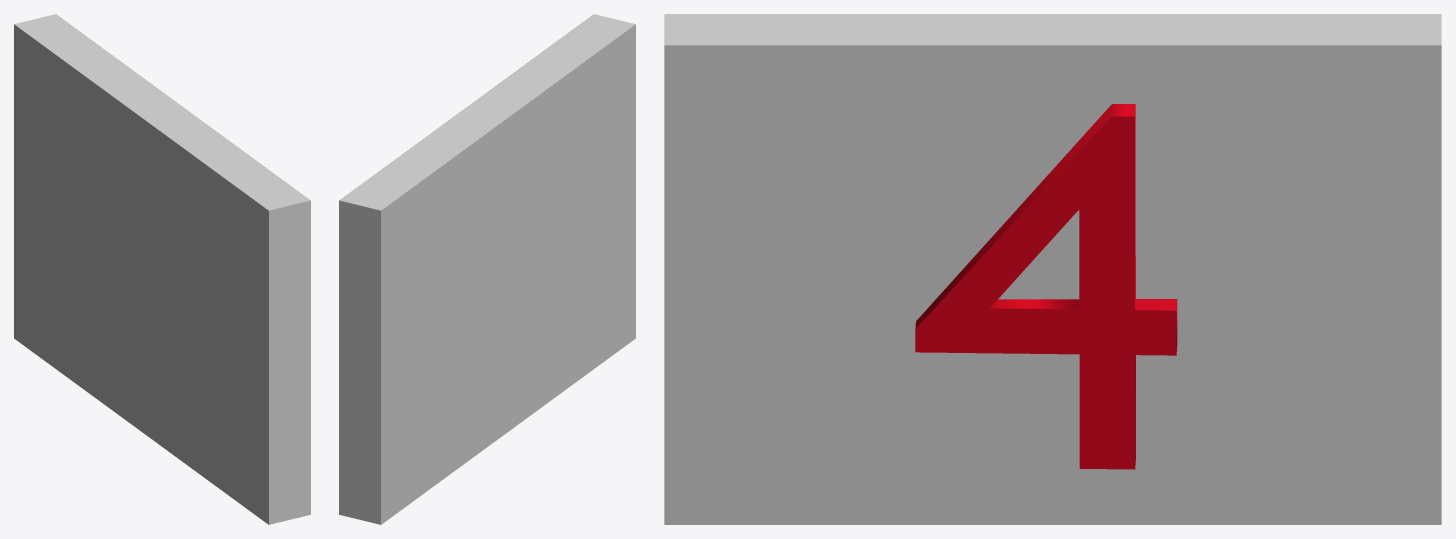
Rendered from row 4.fbx.
3 views of the same model, side by side, from view 1: azimuth 30°, elevation 25°; view 2: azimuth 150°, elevation 25°; view 3: azimuth 270°, elevation 25° (orthographic). The views are drawn at different scales.
Parts seen in each view (by area): view 1: Cube; view 2: Cube; view 3: Cube, Text.
Boxes of the visible parts, box(x1,y1,x2,y2) form: Cube: box(14, 14, 310, 524); Cube: box(339, 14, 635, 524); Cube: box(664, 14, 1441, 524); Text: box(915, 104, 1177, 469).
Size of the model in its own units: 41.24 by 212 by 312.
